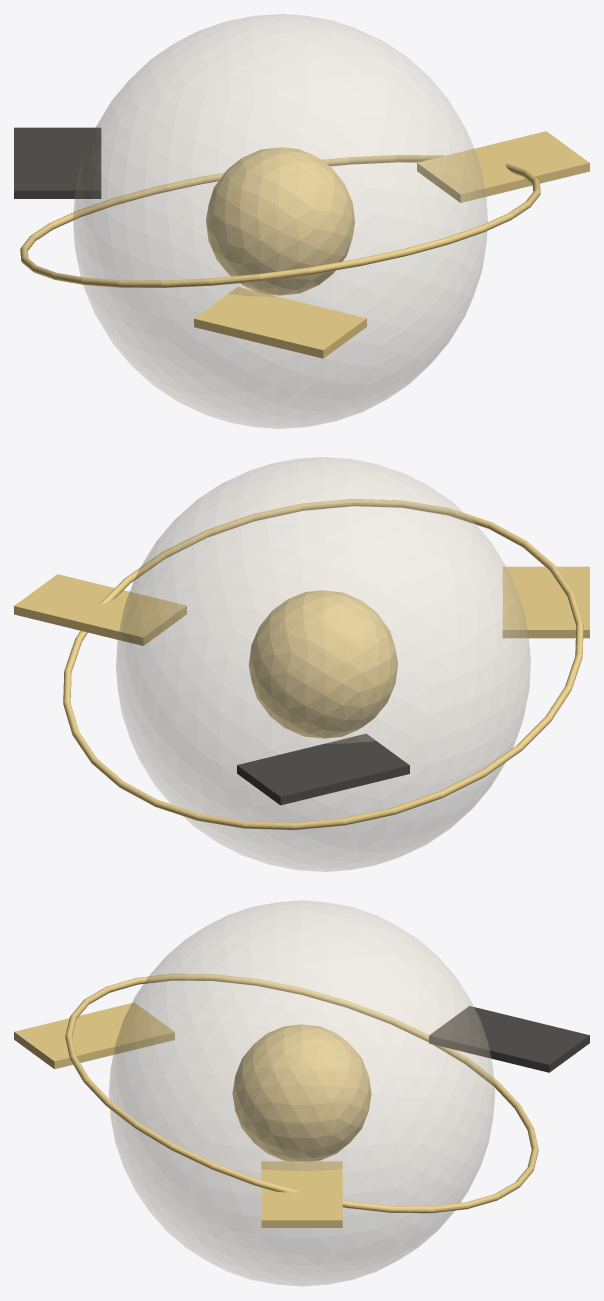
The model's file is scholarship-core-optimized.glb.
3 renders of one model, top to bottom at view 1: azimuth 30°, elevation 25°; view 2: azimuth 150°, elevation 25°; view 3: azimuth 270°, elevation 25°, orthographic. The views are drawn at different scales.
Parts seen in each view (by area): view 1: smoked_glass_outer_core, gold_opportunity_core, floating_match_card_2; view 2: smoked_glass_outer_core, gold_opportunity_core, floating_match_card_2; view 3: smoked_glass_outer_core, gold_opportunity_core, floating_match_card_2.
Part boxes in pixels (x1,y1,x2,y2): smoked_glass_outer_core: (73, 14, 487, 428); gold_opportunity_core: (20, 131, 589, 358); floating_match_card_2: (14, 127, 101, 198); smoked_glass_outer_core: (116, 457, 530, 871); gold_opportunity_core: (14, 499, 589, 830); floating_match_card_2: (237, 734, 409, 805); smoked_glass_outer_core: (109, 900, 494, 1286); gold_opportunity_core: (14, 973, 538, 1227); floating_match_card_2: (429, 1006, 589, 1072).
Bounding box in the file's own units: 2.87 × 2 × 2.98.
